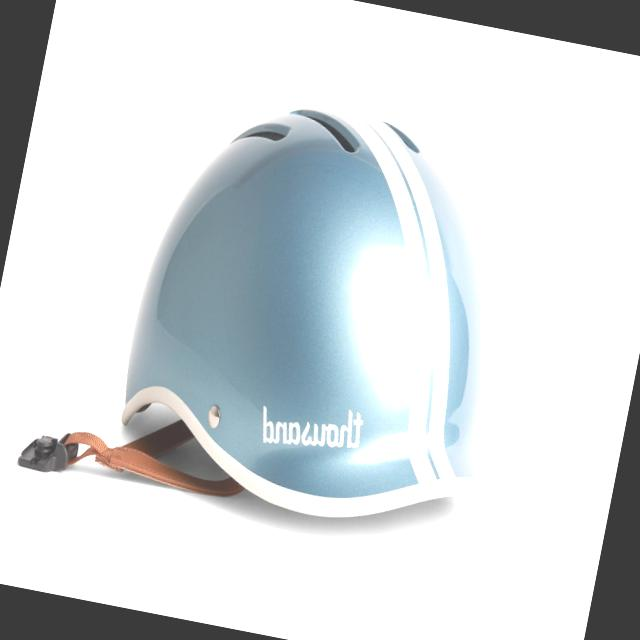helmet: (100, 67, 552, 534)
